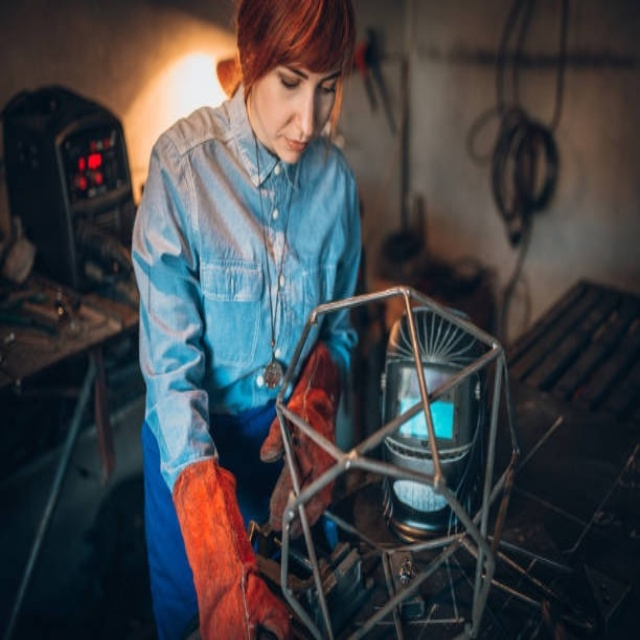Guantes: (170, 455, 298, 639), (260, 344, 341, 537)
Sin_gafas: (270, 63, 344, 105)
Sin_mascara: (271, 129, 318, 160)
